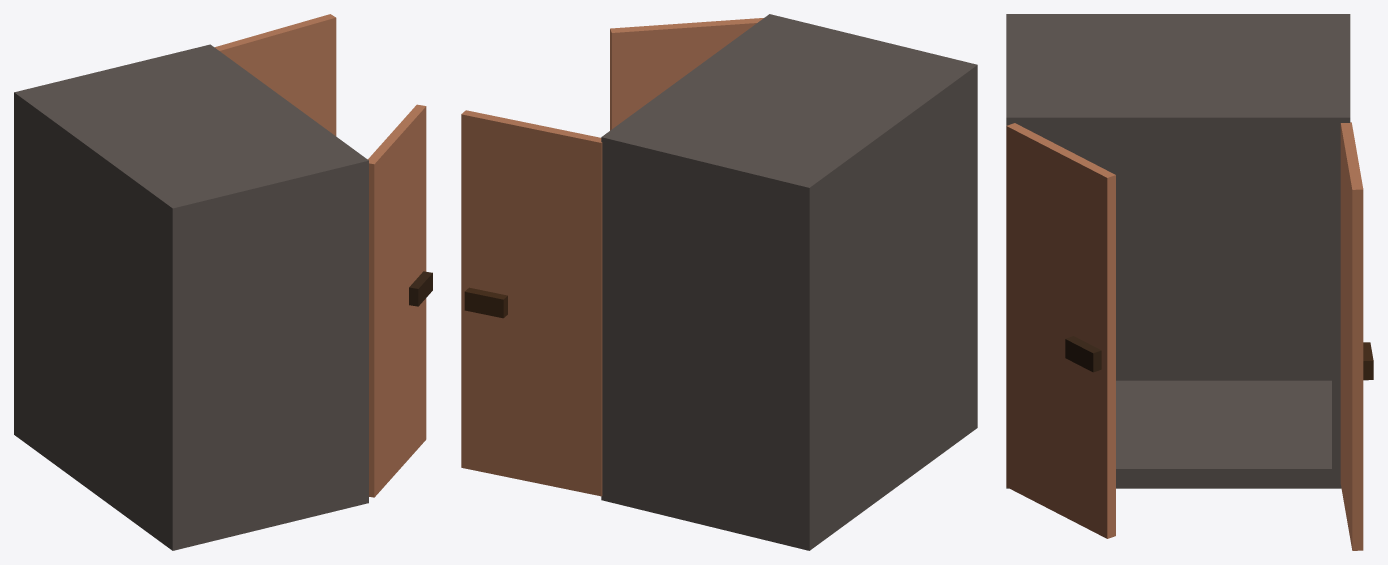
Rendered from Shkaf_v2.3_покрас.fbx.
The picture shows the model from 3 angles, left to right: view 1: azimuth 30°, elevation 25°; view 2: azimuth 150°, elevation 25°; view 3: azimuth 270°, elevation 25°; orthographic projection. The views are drawn at different scales.
Visible parts, largest first — view 1: shkaf.001, door1, door2; view 2: shkaf.001, door2, door1; view 3: shkaf.001, door1, door2.
Part boxes in pixels (<box>): shkaf.001: <box>14,44,368,550</box>; door1: <box>368,104,432,497</box>; door2: <box>215,14,336,135</box>; shkaf.001: <box>601,14,977,550</box>; door2: <box>461,110,602,496</box>; door1: <box>610,18,763,130</box>; shkaf.001: <box>1006,14,1350,488</box>; door1: <box>1006,123,1115,538</box>; door2: <box>1340,122,1373,550</box>.
Bounding box in the file's own units: 247 × 250 × 224.
